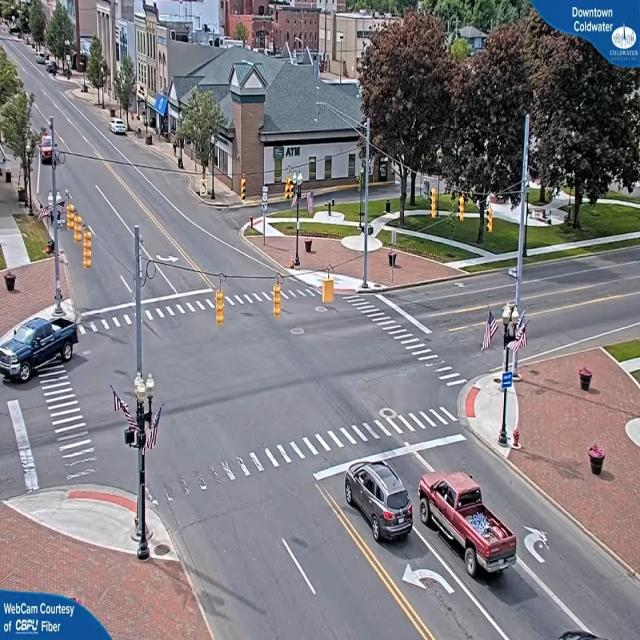car: (418, 474, 515, 582), (1, 310, 82, 383), (346, 458, 414, 543), (110, 120, 129, 136)
